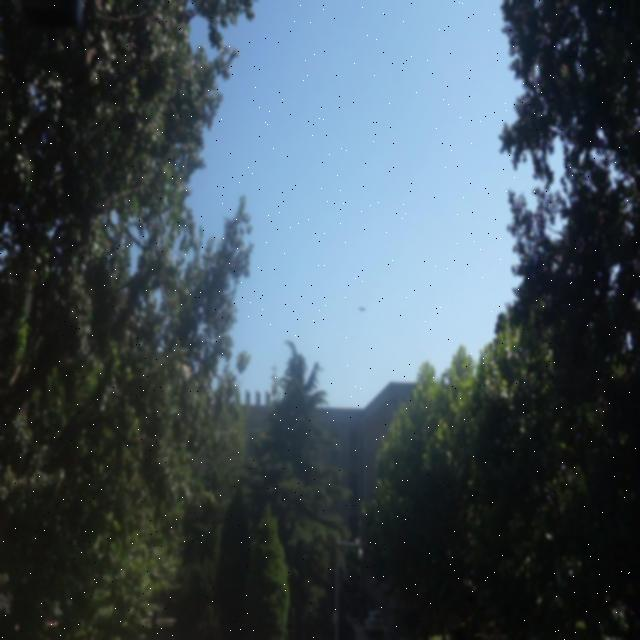UAV: (358, 305, 366, 312)
